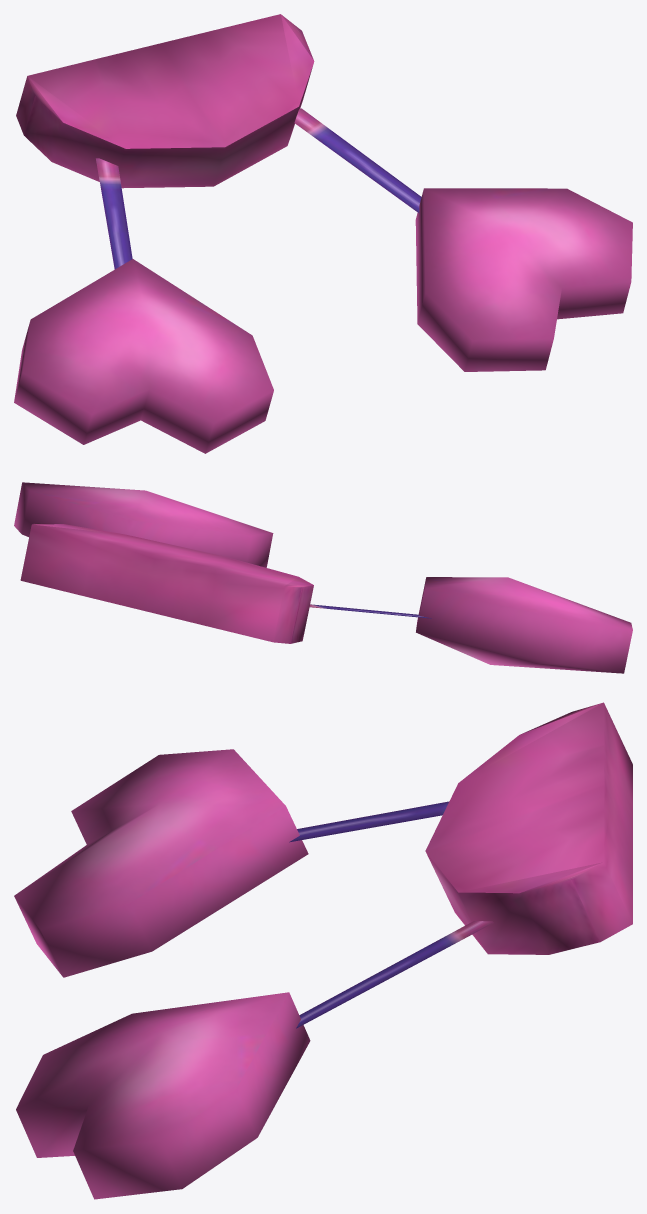
Rendered from tt_m_chr_avt_acc_hat_heart.glb.
3 renders of one model, top to bottom at view 1: azimuth 30°, elevation 25°; view 2: azimuth 150°, elevation 25°; view 3: azimuth 270°, elevation 25°, orthographic. The views are drawn at different scales.
Parts seen in each view (by area): view 1: heartHat; view 2: heartHat; view 3: heartHat.
Boxes of the visible parts, x1,y1,x2,y2 form: heartHat: (14,14,632,453); heartHat: (14,482,632,673); heartHat: (14,702,632,1199).
Bounding box in the file's own units: 4.89 × 1.58 × 3.32.
Materials: 1 (1 with a texture image).
